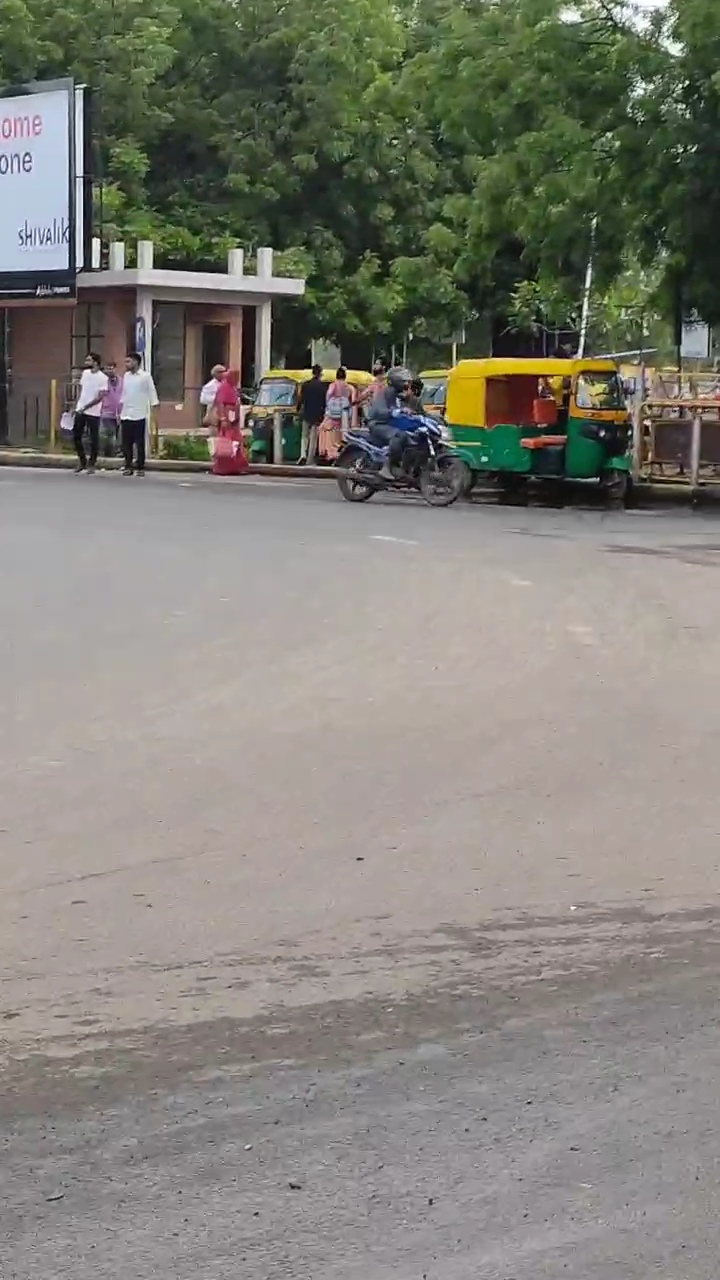BikeWithRider: (323, 359, 475, 512)
Helmet: (383, 363, 418, 395)
